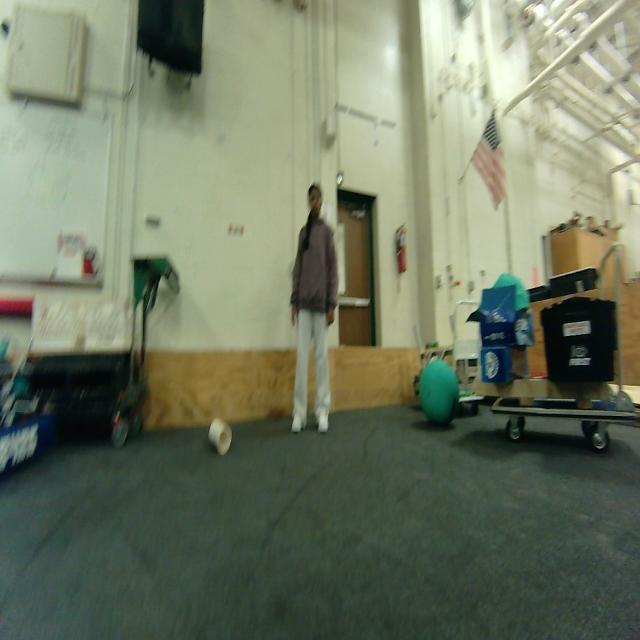algae: (413, 355, 466, 428)
coral: (208, 418, 232, 456)
